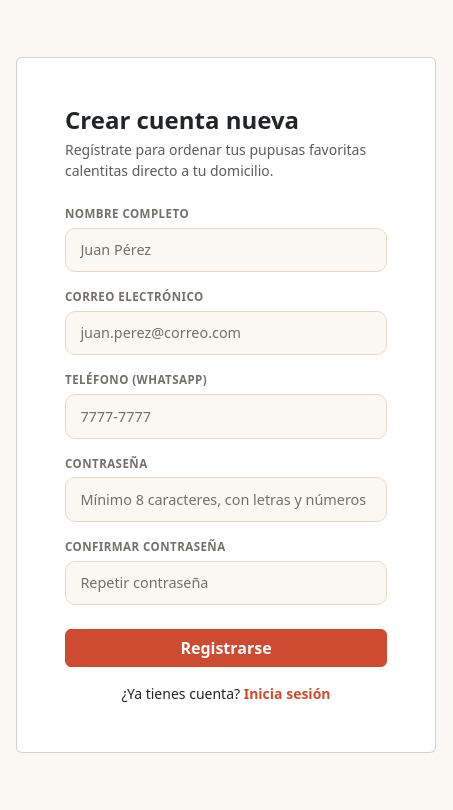
Test: Registro › al enviar vacío marca los cinco campos con su mensaje
The width and height of the screenshot is (453, 810).
Click the button "Registrarse".
click(226, 648)  # box [65,629,387,667]
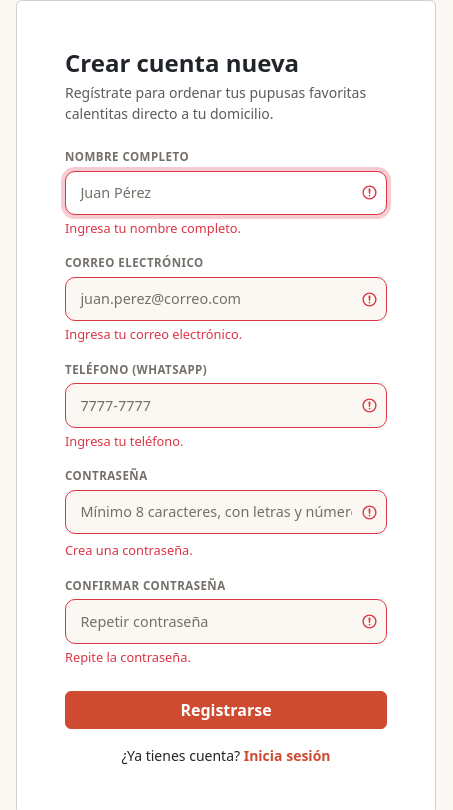
Expected: the text "Ingresa tu nombre completo." is shown, [65,219,241,237]
Expected: the text "Ingresa tu correo electrónico." is shown, [65,325,242,343]
Expected: the text "Ingresa tu teléfono." is shown, [65,432,183,450]
